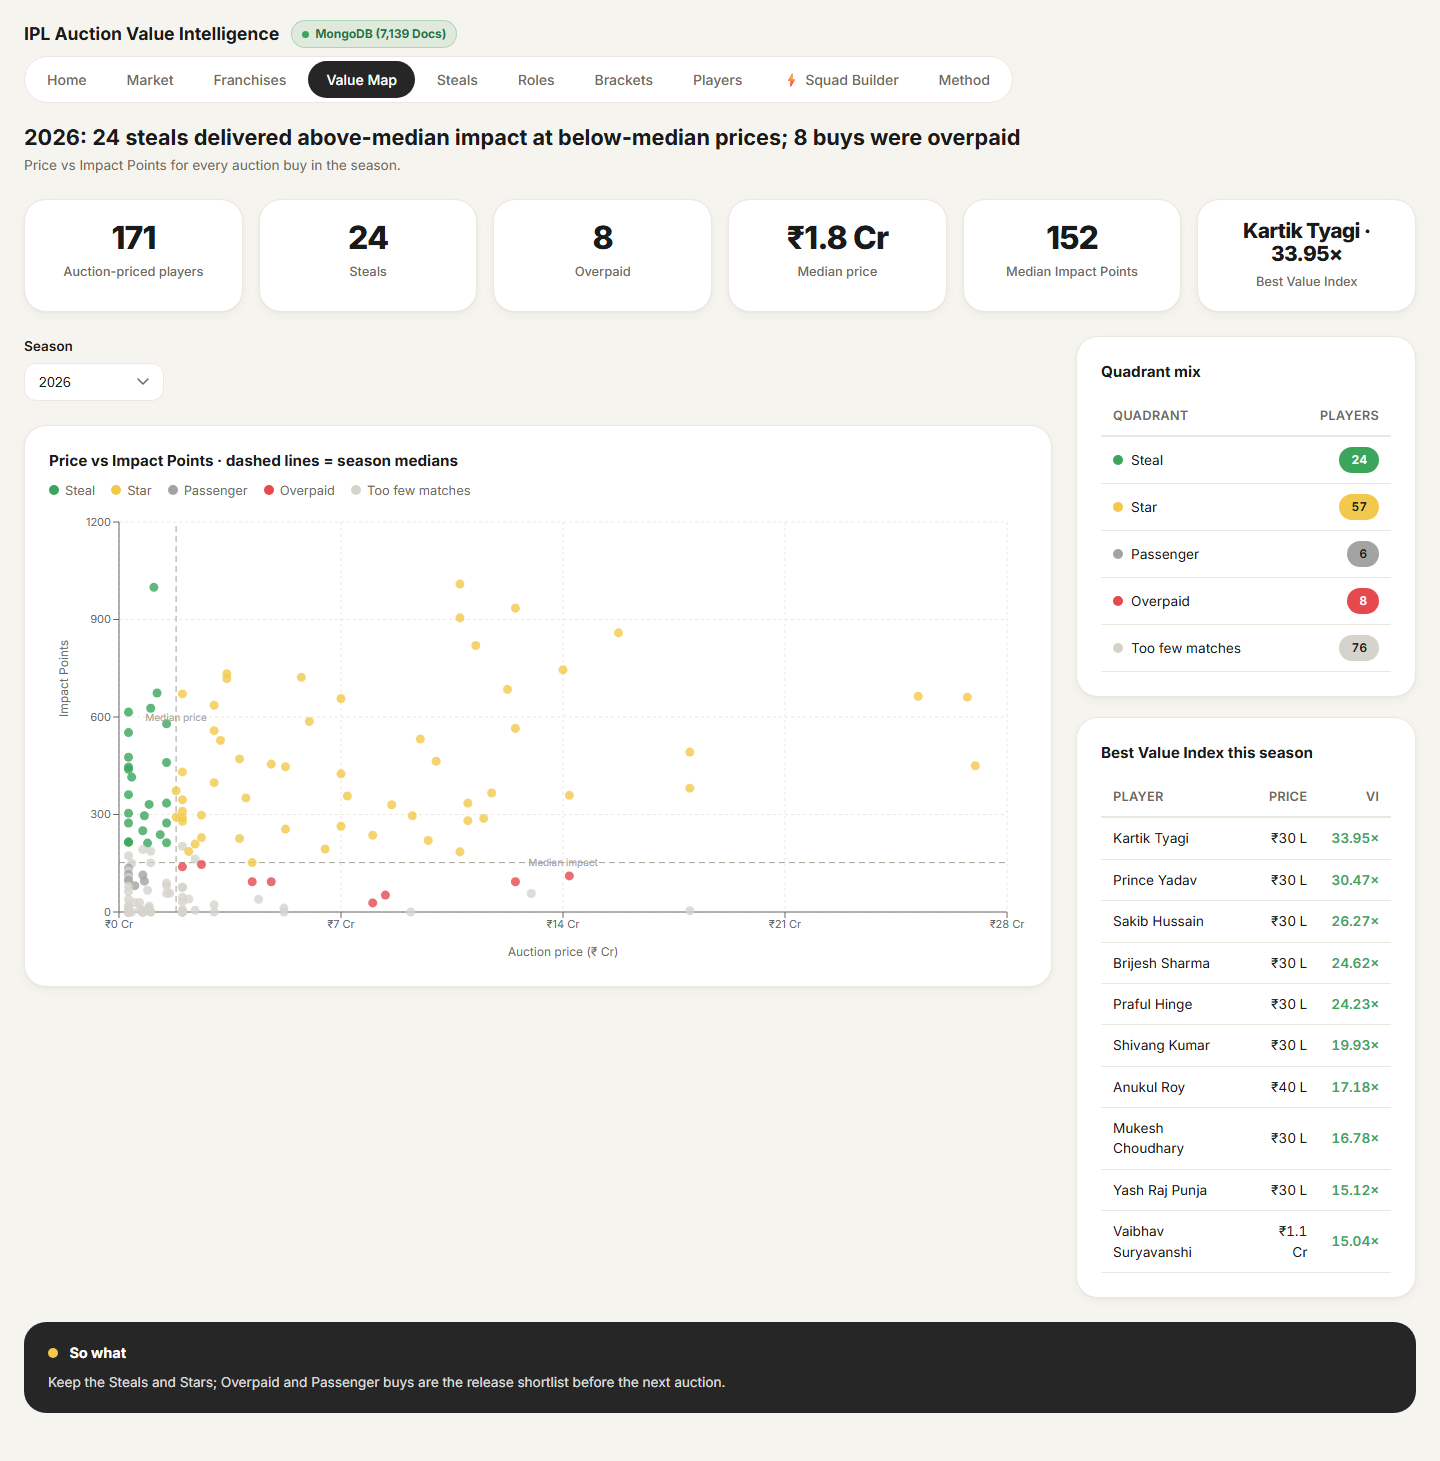

Layout of this report page (visuals, bound fields, positions):
{"tool":"powerbi","page":{"name":"4 Steals and Overpaid","canvas":[1280,720],"ordinal":4},"visuals":[{"type":"textbox","box":[16,8,270,66],"z":1000},{"type":"textbox","box":[300,14,748,44],"z":2000},{"type":"actionButton","title":"Home","box":[306,20,88,32],"z":3000},{"type":"actionButton","title":"Market","box":[398,20,88,32],"z":4000},{"type":"actionButton","title":"Franchises","box":[490,20,88,32],"z":5000},{"type":"actionButton","title":"Value Map","box":[582,20,88,32],"z":6000},{"type":"actionButton","title":"Steals","box":[674,20,88,32],"z":7000},{"type":"actionButton","title":"Roles","box":[766,20,88,32],"z":8000},{"type":"actionButton","title":"Brackets","box":[858,20,88,32],"z":9000},{"type":"actionButton","title":"Method","box":[950,20,88,32],"z":10000},{"type":"actionButton","title":"i","box":[1062,14,44,44],"z":11000},{"type":"textbox","box":[16,74,1248,50],"z":12000},{"type":"textbox","box":[16,130,196,84],"z":13000},{"type":"slicer","fields":{"Values":["DimSeason.Season"]},"box":[24,140,180,64],"z":14000},{"type":"tableEx","fields":{"Values":["UnsoldPlayers.Player","_Measures.Unsold Career Impact"]},"box":[16,224,196,232],"z":15000},{"type":"textbox","box":[16,466,196,238],"z":16000},{"type":"tableEx","title":"Top 10 steals · highest Value Index","fields":{"Values":["DimPlayer.PlayerName","_Measures.Teams Played For","_Measures.Spend Cr","_Measures.Priced Impact","_Measures.Lakh per Point","_Measures.Value Index (min 5 matches)"]},"box":[224,130,515,280],"z":17000},{"type":"tableEx","title":"Top 10 overpaid · price above output value","fields":{"Values":["DimPlayer.PlayerName","_Measures.Teams Played For","_Measures.Spend Cr","_Measures.Priced Impact","_Measures.Lakh per Point","_Measures.Overpay Cr"]},"box":[749,130,515,280],"z":18000},{"type":"tableEx","title":"Bargain XI · 4 batters, 1 keeper, 2 all-rounders, 4 bowlers","fields":{"Values":["DimPlayer.Role","DimPlayer.PlayerName","_Measures.Spend Cr","_Measures.Value Index"]},"box":[224,420,515,284],"z":19000},{"type":"tableEx","title":"Overpaid XI · biggest gap between price and output","fields":{"Values":["DimPlayer.Role","DimPlayer.PlayerName","_Measures.Spend Cr","_Measures.Overpay Cr"]},"box":[749,420,515,284],"z":20000}]}

Visuals, with their boxes on the page's 1280x720 design canvas (x1, y1, x2, y2). These are canvas units, not pixel positions in the 1440x1461 screenshot, which may show the page scaled, cropped or inside an application window:
textbox: 16 8 286 74
textbox: 300 14 1048 58
"Home" actionButton: 306 20 394 52
"Market" actionButton: 398 20 486 52
"Franchises" actionButton: 490 20 578 52
"Value Map" actionButton: 582 20 670 52
"Steals" actionButton: 674 20 762 52
"Roles" actionButton: 766 20 854 52
"Brackets" actionButton: 858 20 946 52
"Method" actionButton: 950 20 1038 52
"i" actionButton: 1062 14 1106 58
textbox: 16 74 1264 124
textbox: 16 130 212 214
slicer - DimSeason.Season: 24 140 204 204
tableEx - UnsoldPlayers.Player x _Measures.Unsold Career Impact: 16 224 212 456
textbox: 16 466 212 704
"Top 10 steals · highest Value Index" tableEx: 224 130 739 410
"Top 10 overpaid · price above output value" tableEx: 749 130 1264 410
"Bargain XI · 4 batters, 1 keeper, 2 all-rounders, 4 bowlers" tableEx: 224 420 739 704
"Overpaid XI · biggest gap between price and output" tableEx: 749 420 1264 704
